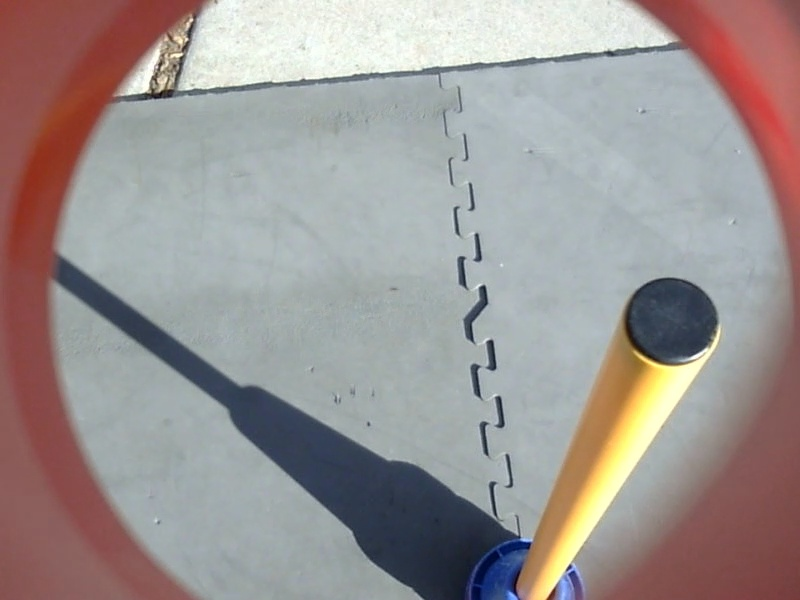tip: (616, 274, 727, 371)
